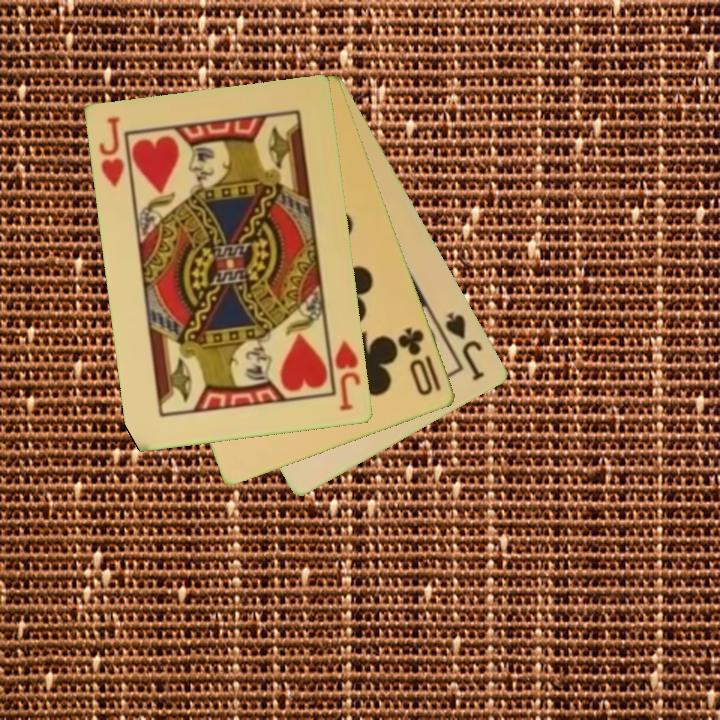10c: (394, 324, 445, 399)
Jh: (332, 337, 364, 415), (96, 114, 128, 190)
Js: (442, 308, 489, 384)
